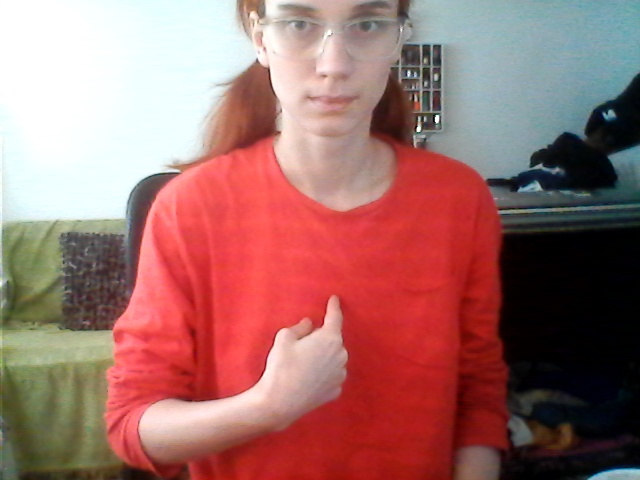ja: (253, 289, 366, 433)
